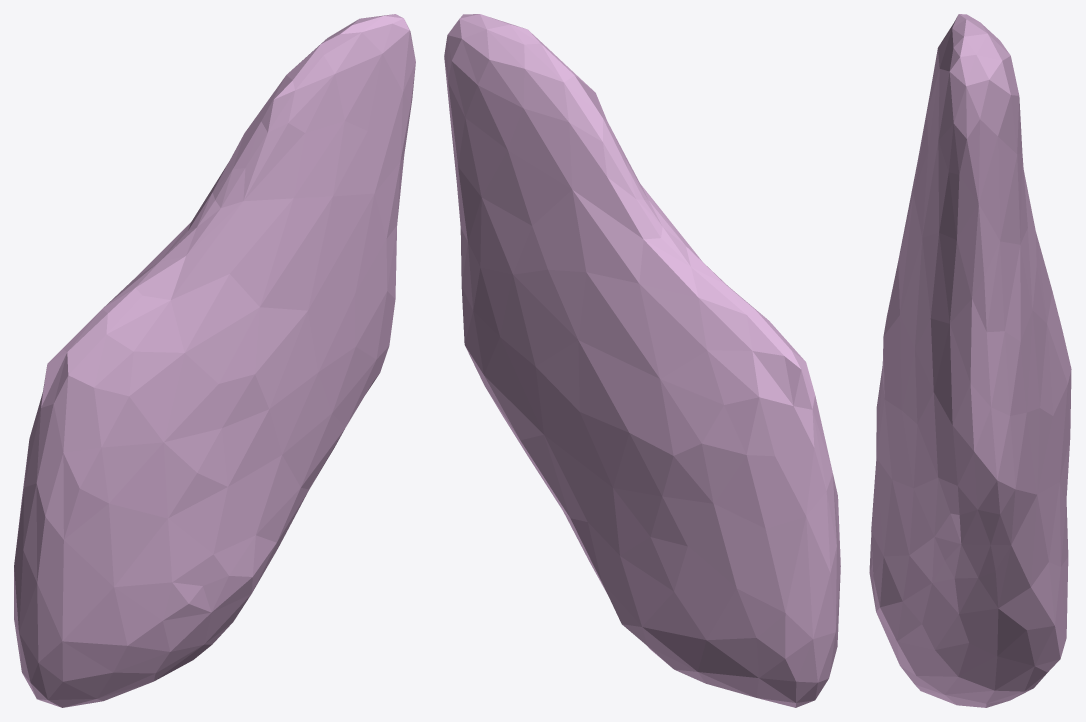
The picture shows the model from 3 angles, left to right: view 1: azimuth 30°, elevation 25°; view 2: azimuth 150°, elevation 25°; view 3: azimuth 270°, elevation 25°; orthographic projection. The views are drawn at different scales.
Parts seen in each view (by area): view 1: 872.obj; view 2: 872.obj; view 3: 872.obj.
Boxes of the visible parts, x1,y1,x2,y2 form: 872.obj: (14,14,415,707); 872.obj: (444,14,840,707); 872.obj: (869,14,1071,707).
Bounding box in the file's own units: 885 × 1321 × 289.
